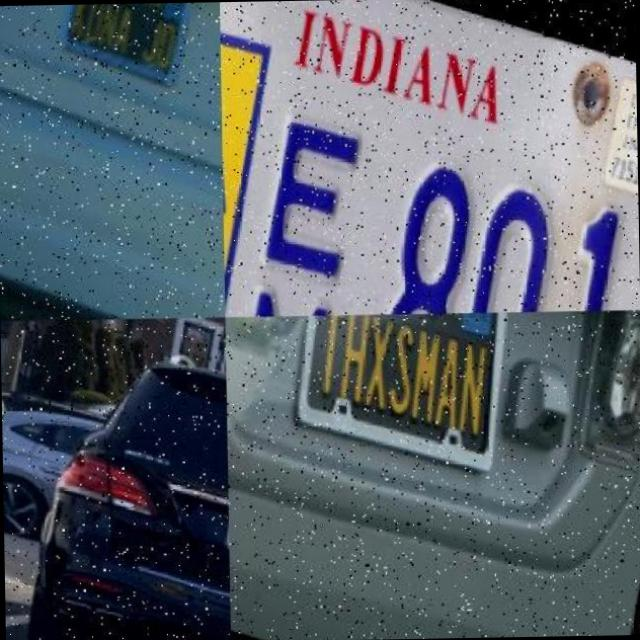LicensePlate: (221, 74, 640, 318), (274, 312, 528, 478), (58, 2, 195, 80)
